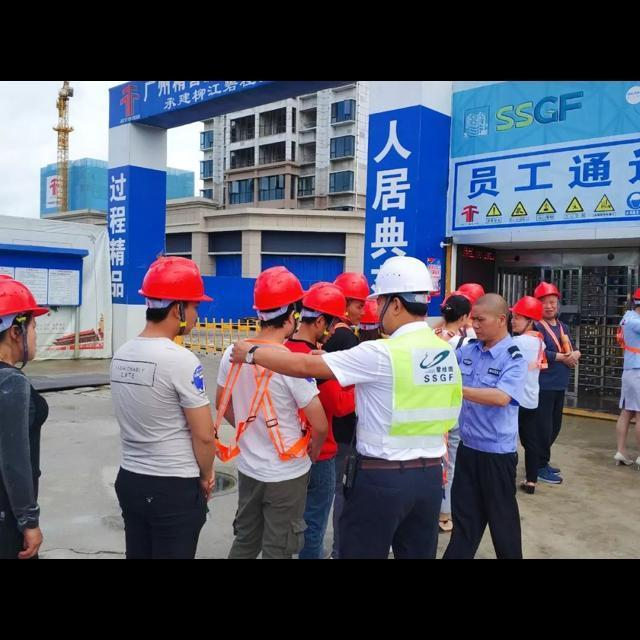helmet: (130, 246, 219, 314), (1, 265, 72, 338), (366, 252, 440, 304), (250, 260, 310, 322), (294, 268, 354, 329), (323, 259, 371, 309), (346, 287, 391, 338), (448, 276, 488, 327), (506, 285, 550, 331), (526, 277, 570, 308)
safety_vest: (206, 328, 322, 474), (358, 313, 466, 450), (515, 312, 586, 412)
